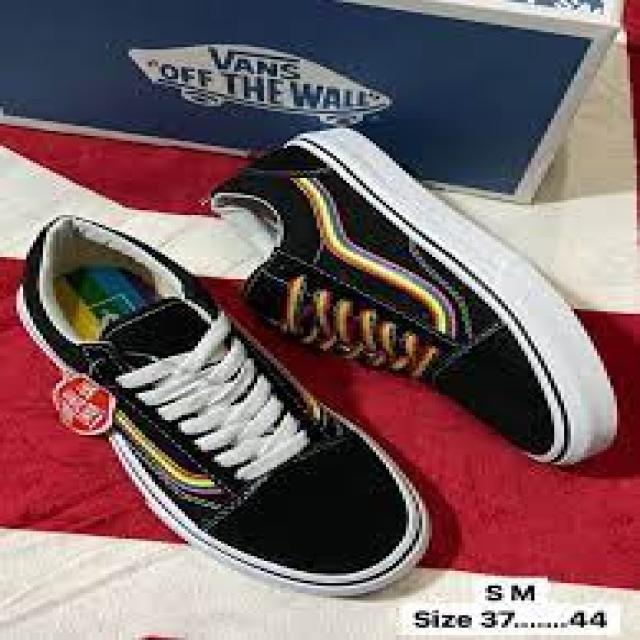shoe: (17, 127, 614, 599), (7, 211, 432, 600), (205, 128, 618, 478)
